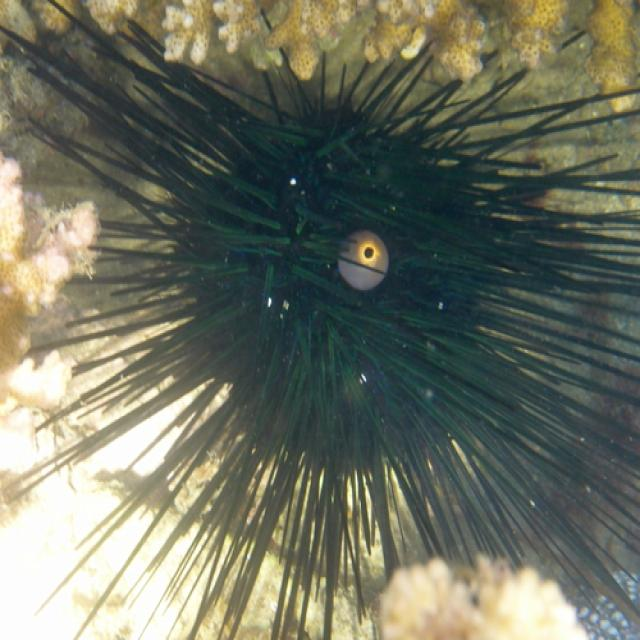Urchin: (29, 18, 626, 582)
